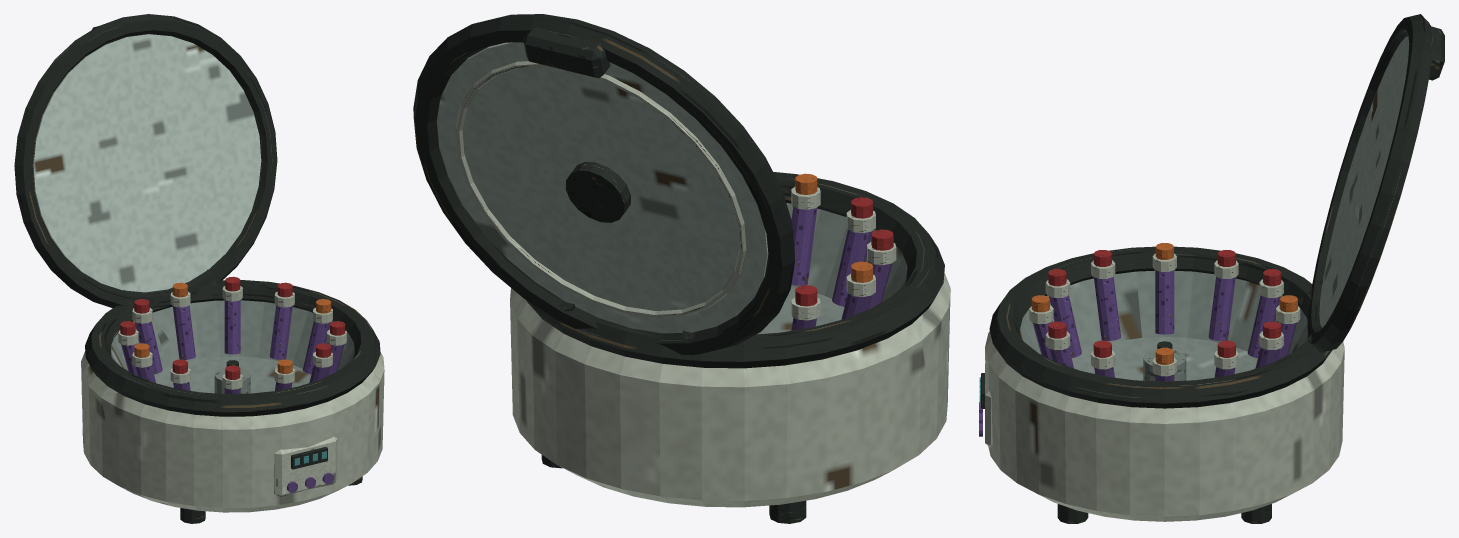
File: centrifuge.obj
3 renders of one model, left to right at view 1: azimuth 30°, elevation 25°; view 2: azimuth 150°, elevation 25°; view 3: azimuth 270°, elevation 25°, orthographic. The views are drawn at different scales.
Visible parts, largest first — view 1: centrifuge_MaterialGroup_09, centrifuge_MaterialGroup_00, centrifuge_MaterialGroup_08, centrifuge_MaterialGroup_01, centrifuge_MaterialGroup_03, centrifuge_MaterialGroup_04, centrifuge_MaterialGroup_06, centrifuge_MaterialGroup_05, centrifuge_MaterialGroup_02; view 2: centrifuge_MaterialGroup_00, centrifuge_MaterialGroup_09, centrifuge_MaterialGroup_08, centrifuge_MaterialGroup_01, centrifuge_MaterialGroup_10, centrifuge_MaterialGroup_03, centrifuge_MaterialGroup_04, centrifuge_MaterialGroup_06, centrifuge_MaterialGroup_05; view 3: centrifuge_MaterialGroup_00, centrifuge_MaterialGroup_01, centrifuge_MaterialGroup_08, centrifuge_MaterialGroup_09, centrifuge_MaterialGroup_03, centrifuge_MaterialGroup_04, centrifuge_MaterialGroup_06, centrifuge_MaterialGroup_05, centrifuge_MaterialGroup_02.
Part boxes in pixels (left/top/right/bottom): centrifuge_MaterialGroup_09: left=32, top=34, right=261, bottom=292; centrifuge_MaterialGroup_00: left=81, top=300, right=384, bottom=512; centrifuge_MaterialGroup_08: left=14, top=14, right=277, bottom=311; centrifuge_MaterialGroup_01: left=85, top=280, right=380, bottom=523; centrifuge_MaterialGroup_03: left=121, top=300, right=344, bottom=492; centrifuge_MaterialGroup_04: left=118, top=286, right=346, bottom=497; centrifuge_MaterialGroup_06: left=120, top=276, right=345, bottom=379; centrifuge_MaterialGroup_05: left=134, top=282, right=331, bottom=373; centrifuge_MaterialGroup_02: left=214, top=367, right=250, bottom=393; centrifuge_MaterialGroup_00: left=510, top=203, right=950, bottom=507; centrifuge_MaterialGroup_09: left=436, top=42, right=768, bottom=333; centrifuge_MaterialGroup_08: left=413, top=14, right=794, bottom=354; centrifuge_MaterialGroup_01: left=526, top=172, right=944, bottom=523; centrifuge_MaterialGroup_10: left=456, top=61, right=746, bottom=317; centrifuge_MaterialGroup_03: left=791, top=207, right=892, bottom=330; centrifuge_MaterialGroup_04: left=791, top=187, right=896, bottom=320; centrifuge_MaterialGroup_06: left=795, top=197, right=893, bottom=306; centrifuge_MaterialGroup_05: left=795, top=173, right=872, bottom=282; centrifuge_MaterialGroup_00: left=985, top=270, right=1344, bottom=521; centrifuge_MaterialGroup_01: left=981, top=246, right=1332, bottom=523; centrifuge_MaterialGroup_08: left=1299, top=14, right=1444, bottom=352; centrifuge_MaterialGroup_09: left=1319, top=36, right=1409, bottom=327; centrifuge_MaterialGroup_03: left=979, top=270, right=1296, bottom=436; centrifuge_MaterialGroup_04: left=985, top=253, right=1300, bottom=447; centrifuge_MaterialGroup_06: left=1048, top=250, right=1281, bottom=357; centrifuge_MaterialGroup_05: left=1031, top=243, right=1297, bottom=364; centrifuge_MaterialGroup_02: left=1143, top=350, right=1186, bottom=381.
Bounding box in the file's own units: 0.47 × 0.6362 × 0.6082.
Materials: 8 (8 with a texture image).
